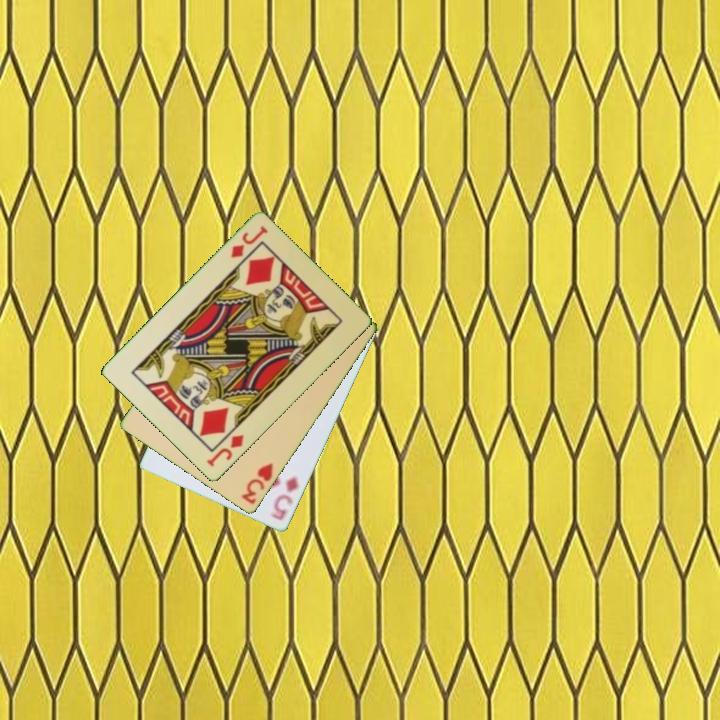3h: (238, 459, 276, 508)
5d: (266, 473, 302, 524)
Jd: (203, 431, 247, 470), (227, 223, 271, 261)
